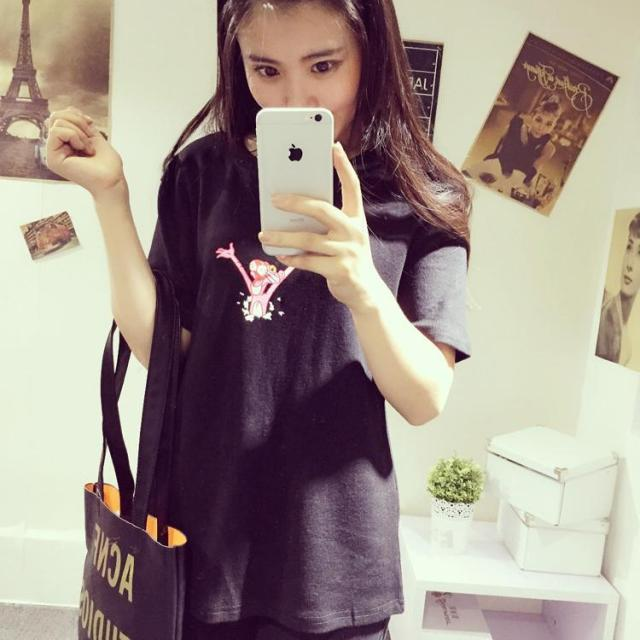short sleeve top: (131, 131, 473, 626)
